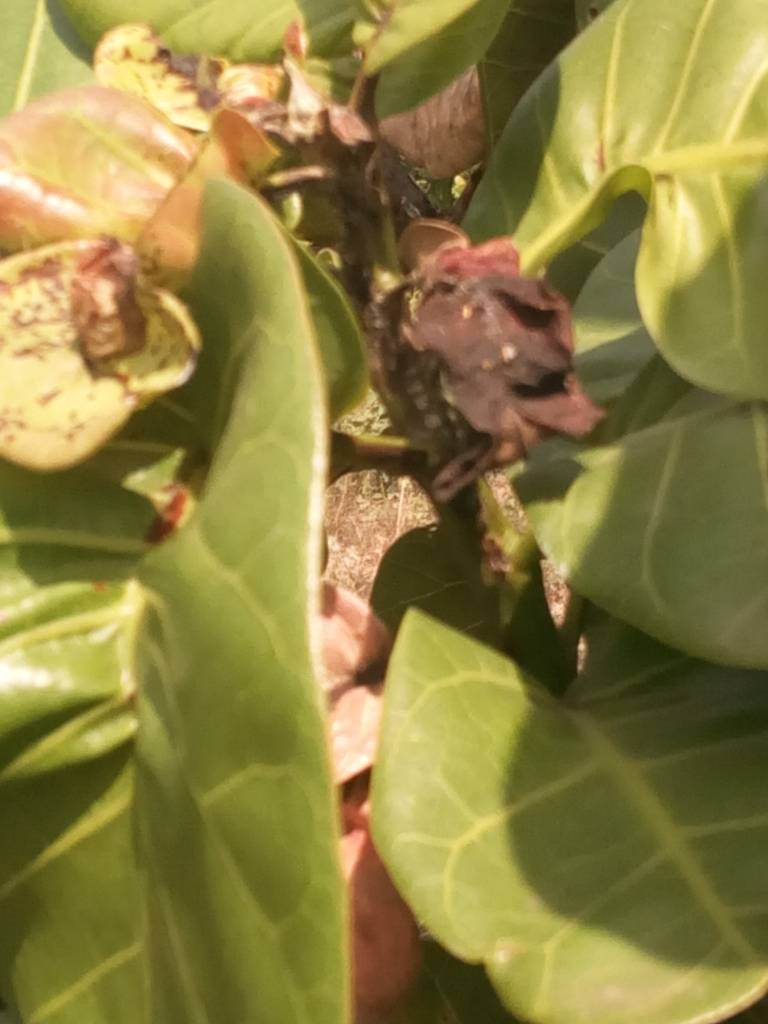Die-black: (391, 240, 600, 497)
